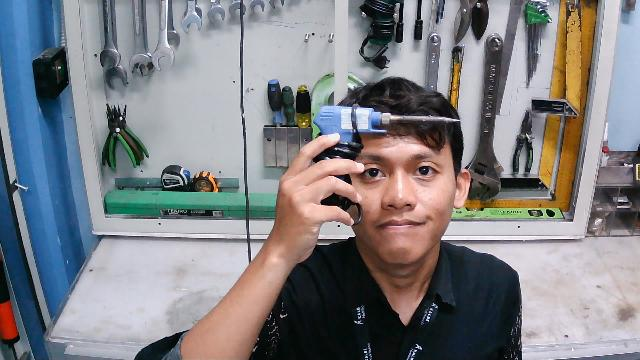solder_electrical: (313, 105, 463, 229)
